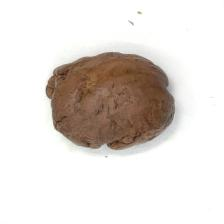NG: (52, 117, 164, 150), (43, 52, 74, 103), (160, 67, 176, 111)
